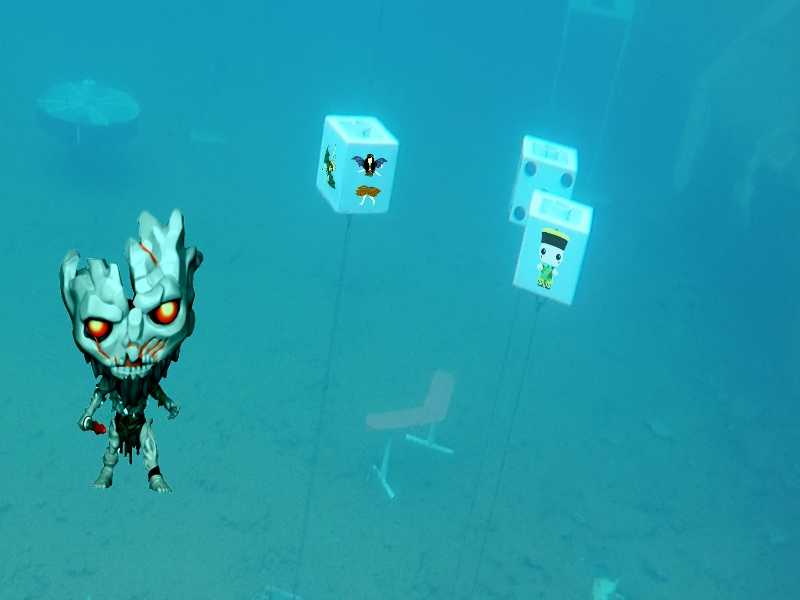Aswang: (346, 147, 393, 209)
Draugr: (54, 205, 206, 496)
Jiangshi: (529, 227, 575, 292)
Vetalas: (318, 137, 342, 193)
